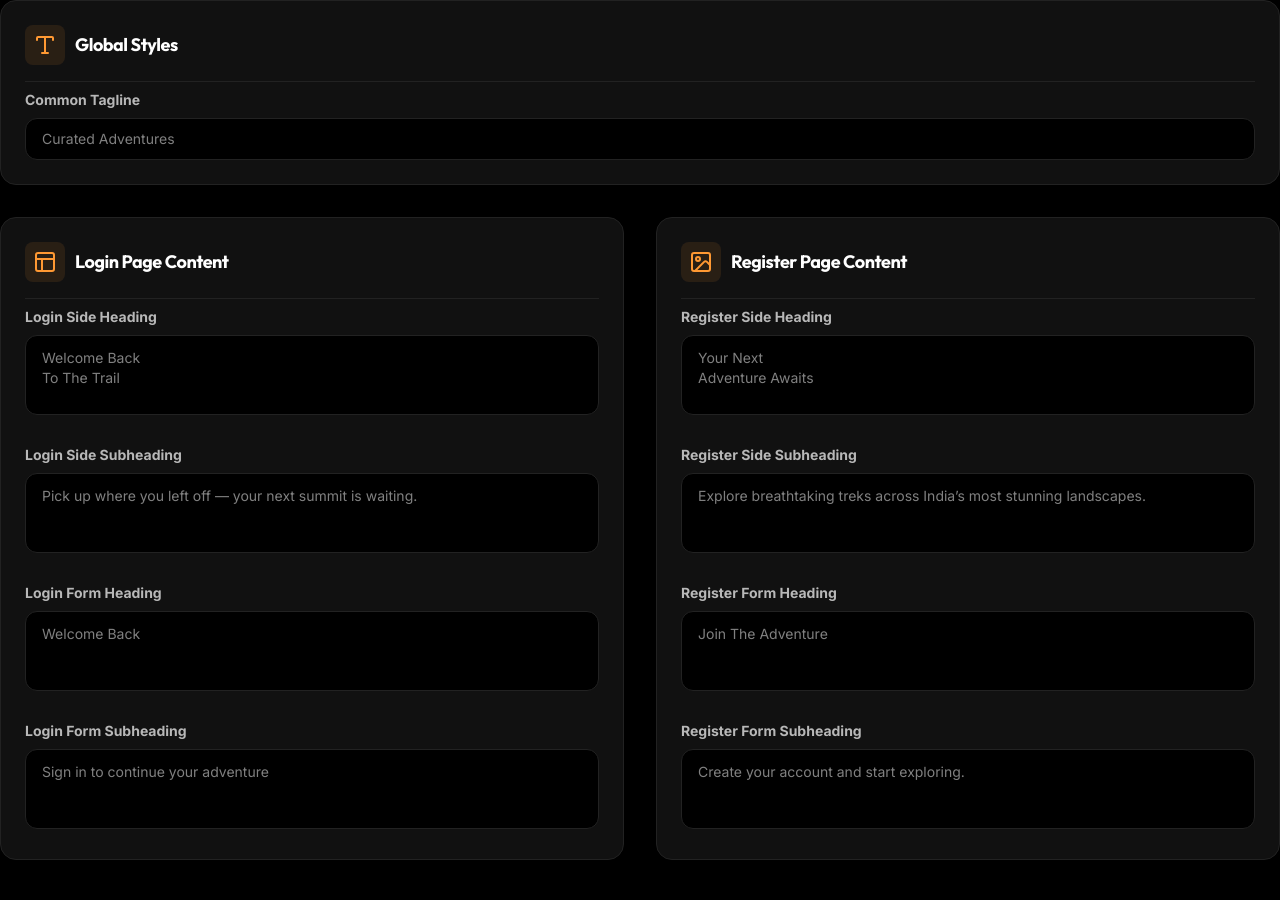
Test case: AuthContentManager Component › shows error message when saving fails
Expected: the heading "Global Styles" is shown, [75, 31, 178, 59]
Type "Bad Tagline" into the field at (640, 139), box [25, 118, 1255, 160]
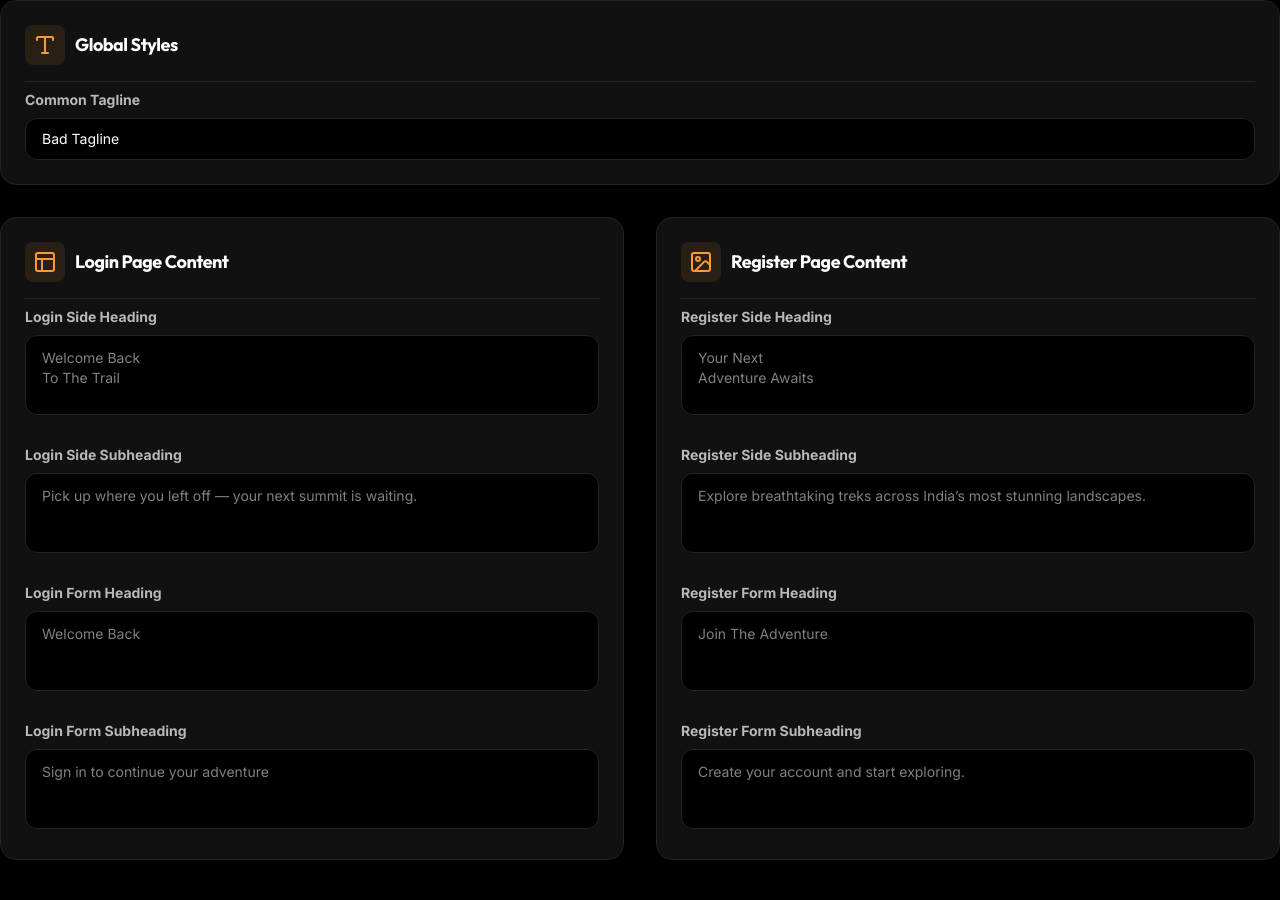
Leave the field, box [25, 118, 1255, 160]
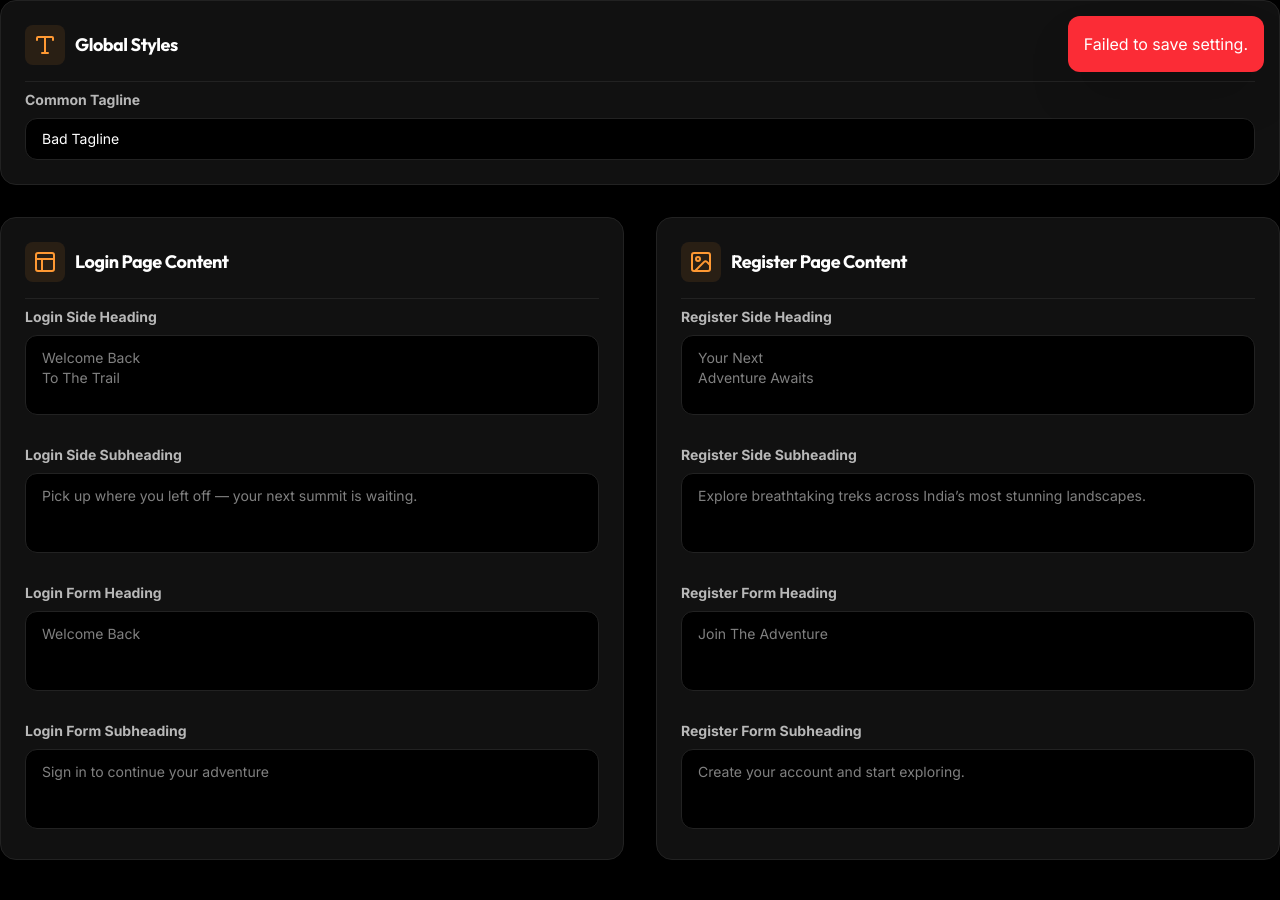
Expected: the text "Failed to save setting." is shown, [1068, 16, 1264, 72]
